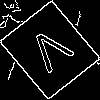V: (25, 25, 81, 82)
